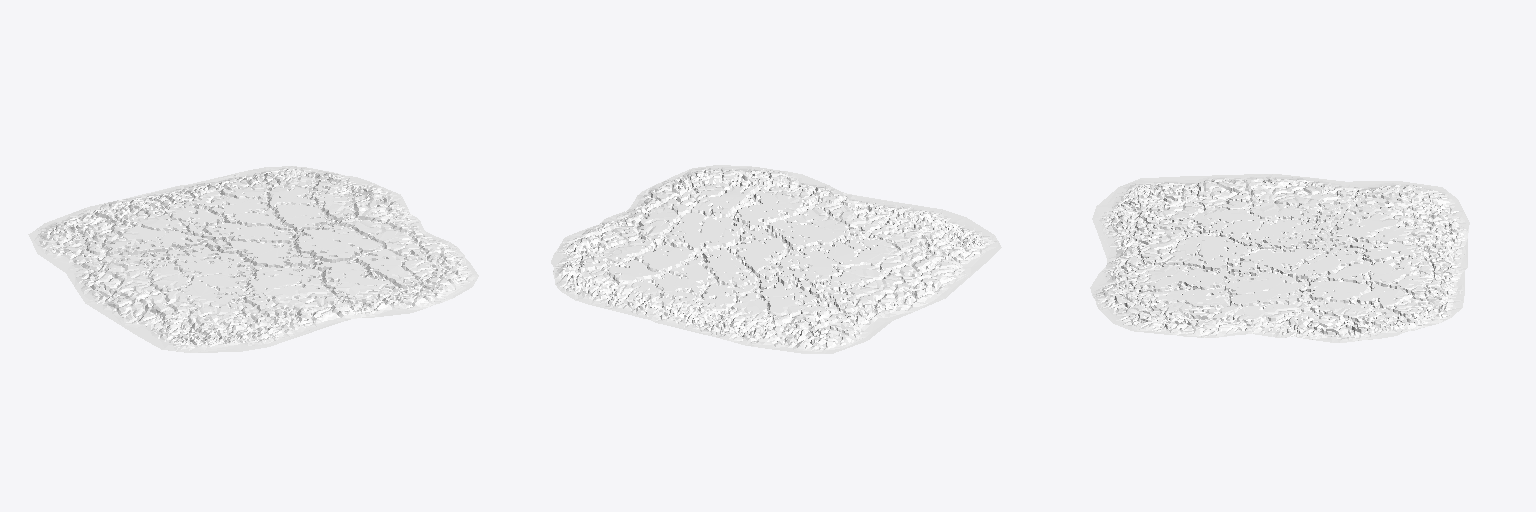
Rendered from Ground.OBJ.
The picture shows the model from 3 angles: view 1: azimuth 30°, elevation 25°; view 2: azimuth 150°, elevation 25°; view 3: azimuth 270°, elevation 25°; orthographic projection.
Visible parts, largest first — view 1: LI_Ground; view 2: LI_Ground; view 3: LI_Ground.
Boxes of the visible parts, x1,y1,x2,y2 form: LI_Ground: [28, 166, 478, 352]; LI_Ground: [551, 165, 1001, 353]; LI_Ground: [1090, 174, 1469, 342].
Size of the model in its own units: 177 by 2.55 by 167.